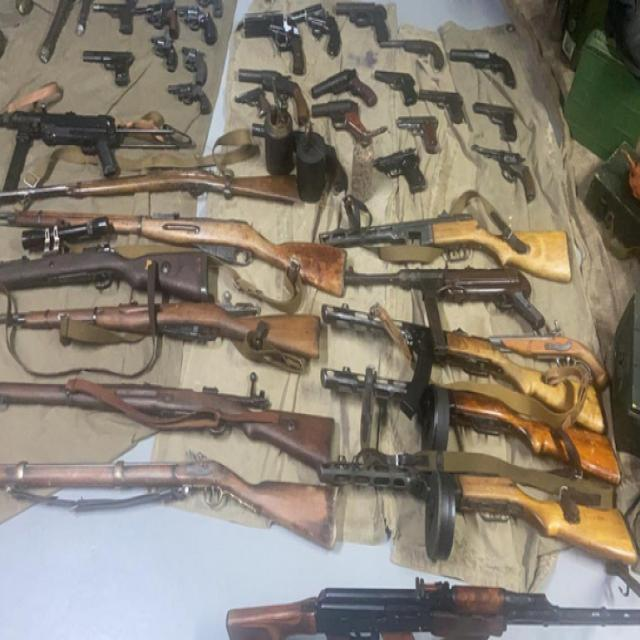firearm: (320, 366, 620, 484), (322, 454, 638, 562), (0, 205, 345, 296), (0, 459, 337, 549), (0, 378, 333, 465), (226, 576, 640, 639), (1, 304, 321, 361), (319, 214, 572, 284), (344, 266, 545, 354), (0, 218, 209, 299), (0, 167, 298, 204), (0, 107, 120, 179)
grenade: (294, 120, 329, 200), (266, 97, 298, 175)
pistol: (490, 334, 608, 390), (239, 66, 309, 124), (473, 143, 536, 200), (312, 100, 371, 147), (289, 5, 341, 57), (311, 69, 377, 106), (451, 49, 515, 87), (376, 150, 426, 193), (336, 2, 389, 42), (83, 49, 136, 87), (380, 40, 444, 71), (473, 104, 518, 141), (272, 24, 304, 75), (418, 90, 464, 124), (398, 116, 439, 154), (375, 69, 417, 105), (138, 2, 178, 38), (178, 7, 216, 44), (93, 3, 134, 36), (168, 84, 213, 113), (182, 47, 208, 86), (150, 36, 177, 72), (236, 87, 266, 117)
